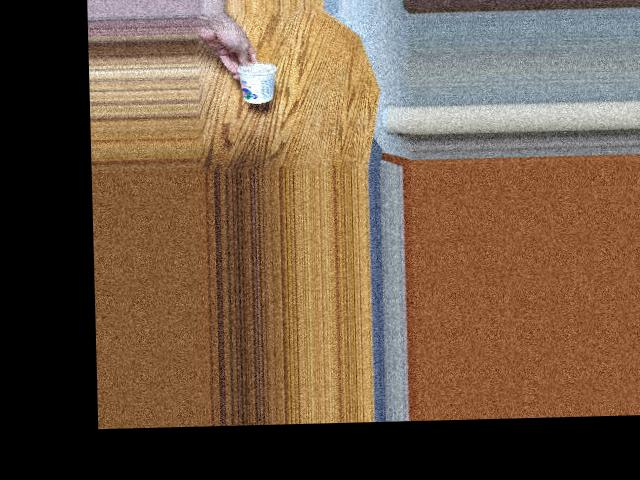cotage: (233, 53, 284, 101)
